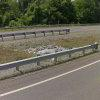Tree: (29, 2, 83, 26)
